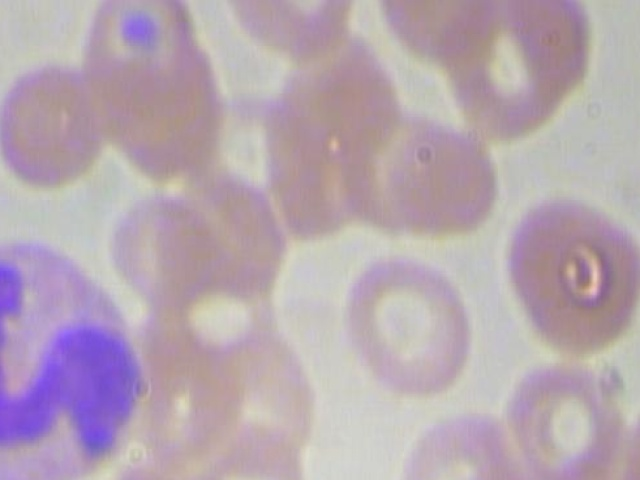RBC: (495, 190, 640, 368), (324, 252, 480, 402), (440, 0, 601, 141), (496, 353, 630, 480), (0, 53, 115, 195), (393, 124, 501, 245), (212, 0, 364, 67), (387, 406, 521, 480)
WBC: (0, 234, 156, 480)
